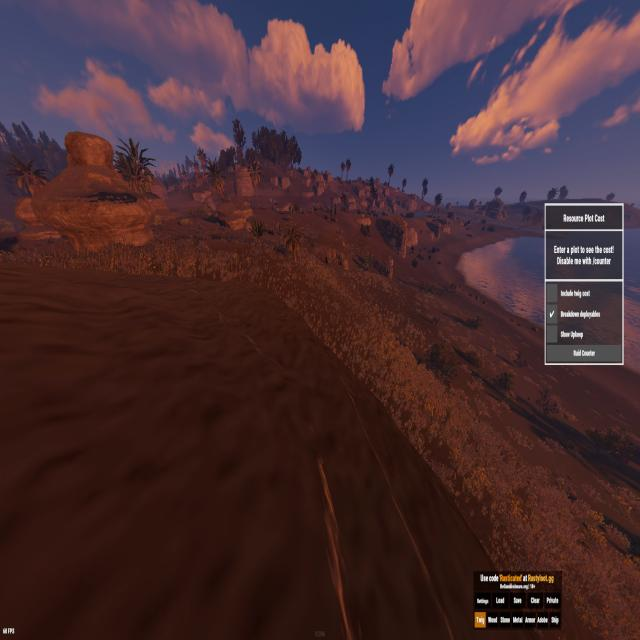Player: (325, 256, 328, 264)
